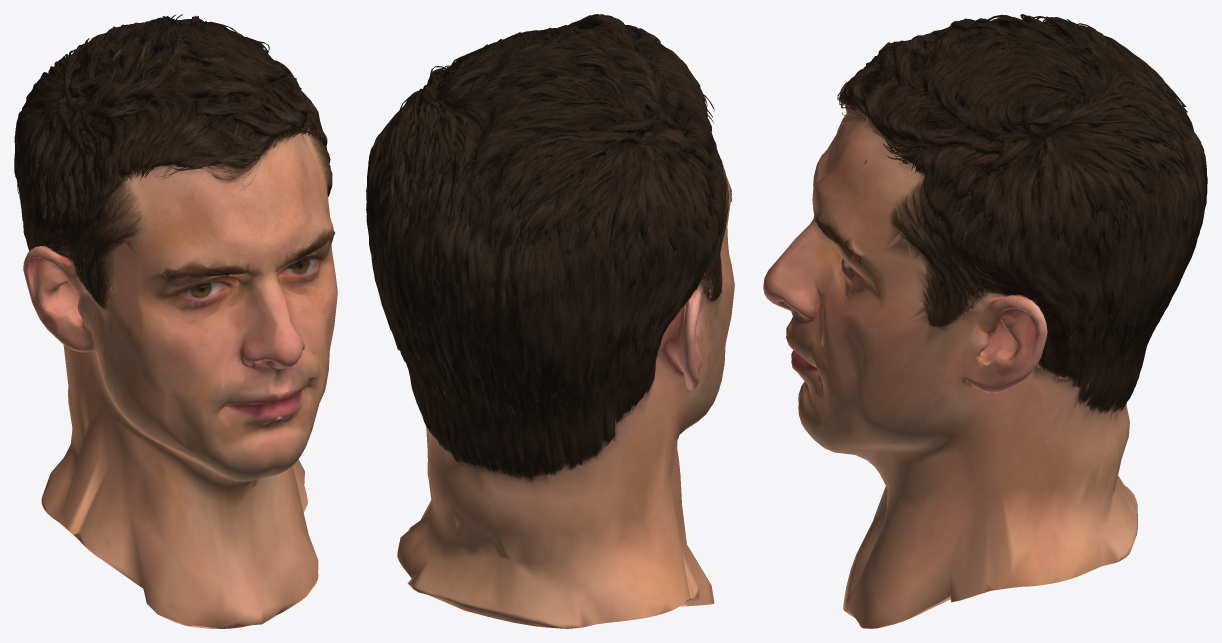
Rendered from rosto-cervical.glb.
The picture shows the model from 3 angles, left to right: view 1: azimuth 30°, elevation 25°; view 2: azimuth 150°, elevation 25°; view 3: azimuth 270°, elevation 25°; orthographic projection. The views are drawn at different scales.
Visible parts, largest first — view 1: human-head; view 2: human-head; view 3: human-head.
Boxes of the visible parts, bbox=[...] form: human-head: bbox=[14, 14, 337, 628]; human-head: bbox=[366, 14, 734, 628]; human-head: bbox=[763, 14, 1207, 628].
Bounding box in the file's own units: 0.1748 × 0.3246 × 0.225.
Materials: 1 (1 with a texture image).
